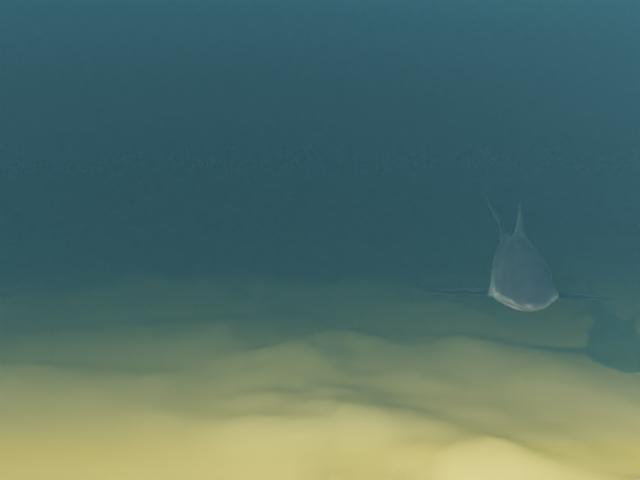Carribean Shark.001: (423, 184, 614, 311)
